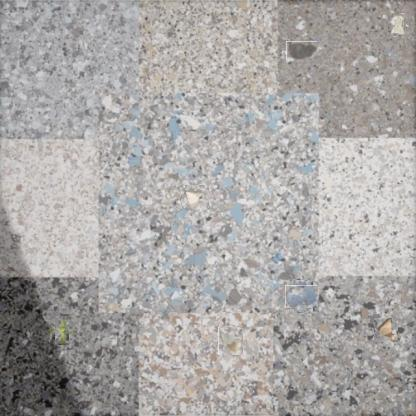dirty: (218, 328, 244, 355), (374, 318, 398, 342), (183, 186, 207, 210), (387, 13, 409, 37), (51, 319, 73, 341)
liquid: (288, 283, 316, 310), (286, 41, 317, 60)
